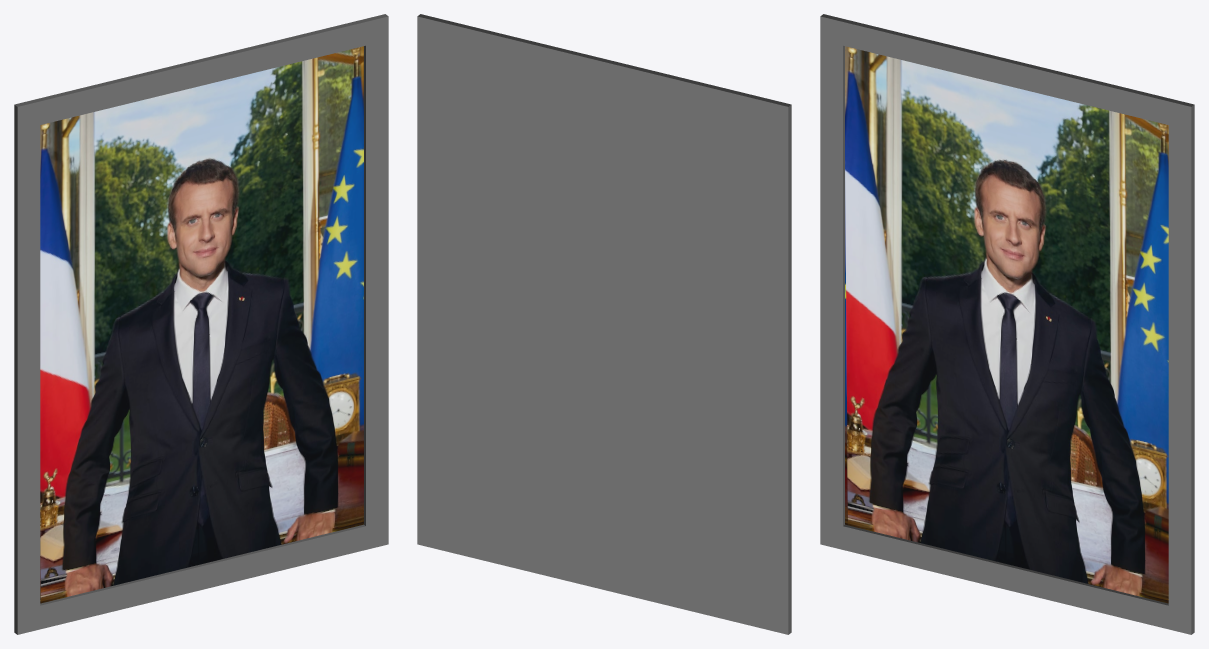
The model's file is tableau.obj.
The picture shows the model from 3 angles, left to right: view 1: azimuth 30°, elevation 25°; view 2: azimuth 150°, elevation 25°; view 3: azimuth 330°, elevation 25°; orthographic projection.
Parts seen in each view (by area): view 1: SM_picture_02; view 2: SM_picture_02; view 3: SM_picture_02.
Part boxes in pixels (bbox=[...]): SM_picture_02: bbox=[14, 14, 388, 634]; SM_picture_02: bbox=[417, 14, 791, 634]; SM_picture_02: bbox=[820, 14, 1194, 634].
Size of the model in its own units: 0.544 by 0.7395 by 0.00831.
Materials: 2 (2 with a texture image).
